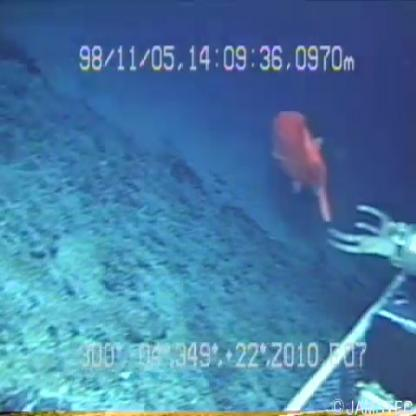Bio: (264, 104, 336, 231)
